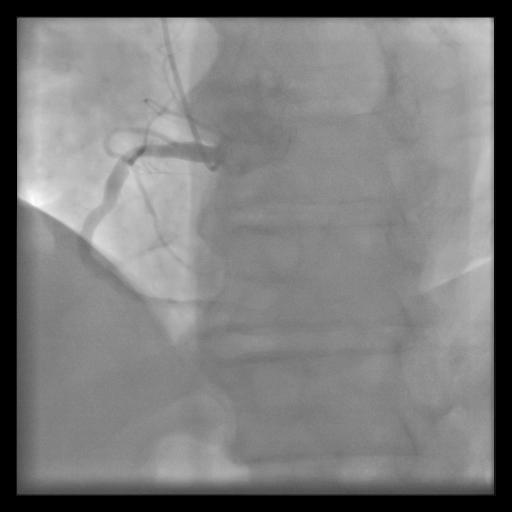Stenosis: (117, 143, 152, 160)
